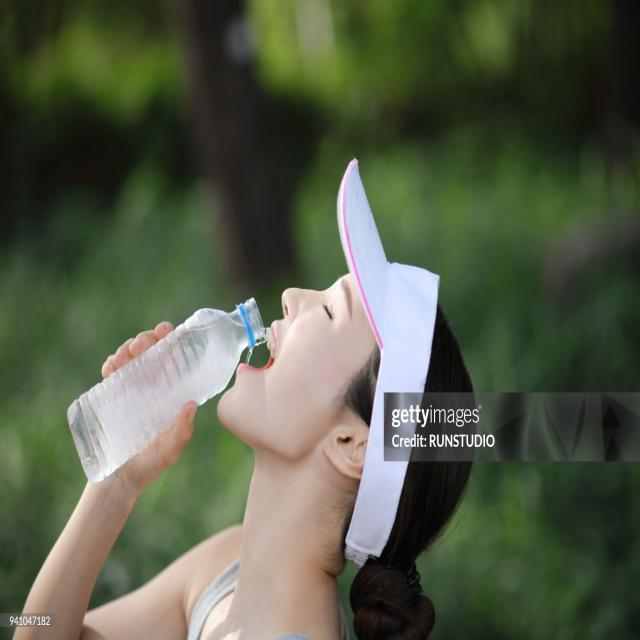bottle: (62, 298, 268, 490)
